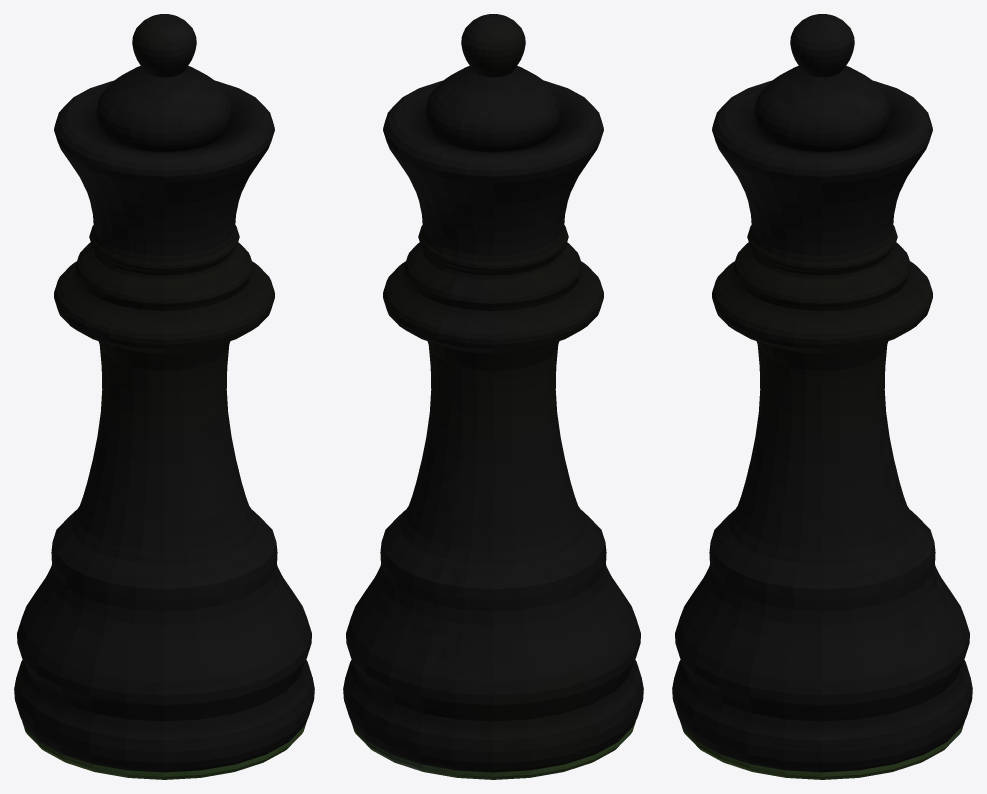
File: queen.glb
3 views of the same model, side by side, from view 1: azimuth 30°, elevation 25°; view 2: azimuth 150°, elevation 25°; view 3: azimuth 270°, elevation 25° (orthographic).
Parts seen in each view (by area): view 1: queen.obj; view 2: queen.obj; view 3: queen.obj.
Boxes of the visible parts, box(x1,y1,x2,y2) form: queen.obj: box(14, 14, 314, 779); queen.obj: box(343, 14, 643, 779); queen.obj: box(672, 14, 972, 779).
Size of the model in its own units: 0.388 by 1 by 0.388.
Materials: 1 (1 with a texture image).
